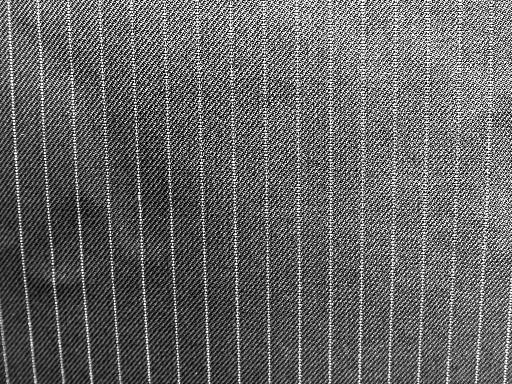fabric_perfect: (3, 2, 511, 378)
